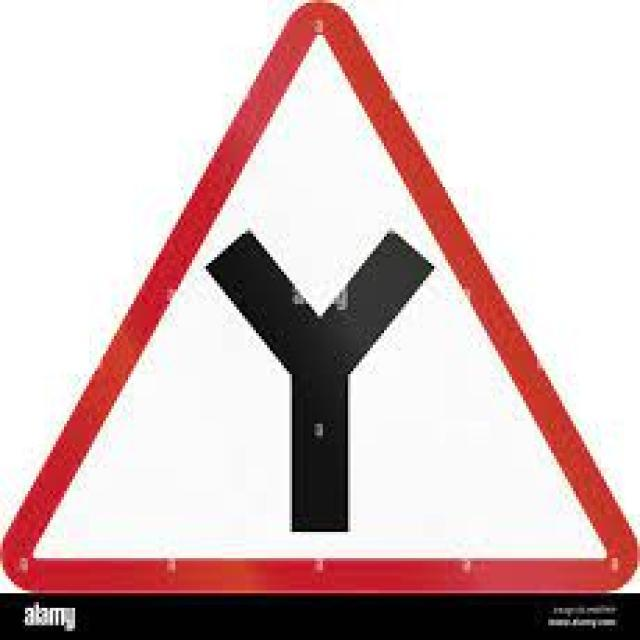y intersection: (35, 35, 612, 565)
